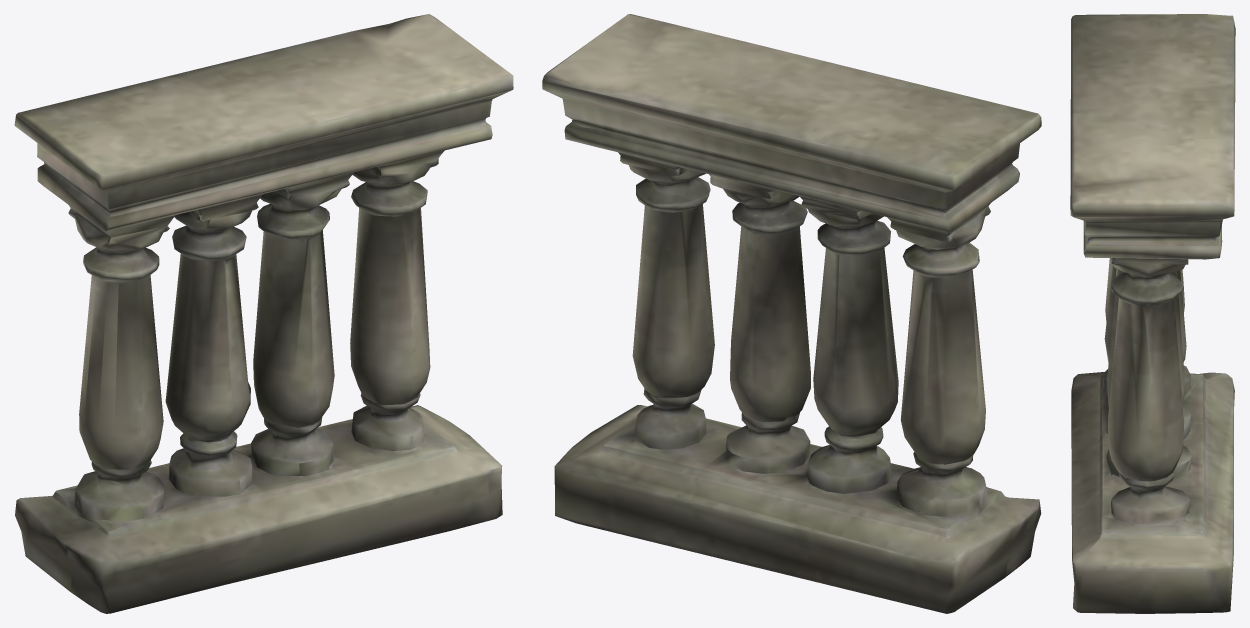
Rendered from ornate-limestone-balustrade-v001.glb.
3 renders of one model, left to right at view 1: azimuth 30°, elevation 25°; view 2: azimuth 150°, elevation 25°; view 3: azimuth 270°, elevation 25°, orthographic. The views are drawn at different scales.
Visible parts, largest first — view 1: ornate-limestone-balustrade; view 2: ornate-limestone-balustrade; view 3: ornate-limestone-balustrade.
Boxes of the visible parts, x1,y1,x2,y2 form: ornate-limestone-balustrade: (14, 14, 513, 613); ornate-limestone-balustrade: (542, 14, 1041, 613); ornate-limestone-balustrade: (1070, 14, 1235, 613).
Size of the model in its own units: 0.9809 by 0.9888 by 0.3525.
1 material, 1 textured.
